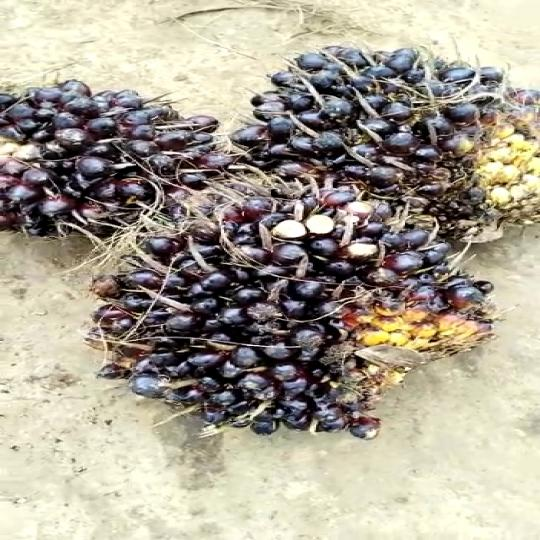mentah: (81, 159, 510, 444), (228, 36, 540, 244), (0, 71, 246, 234)
